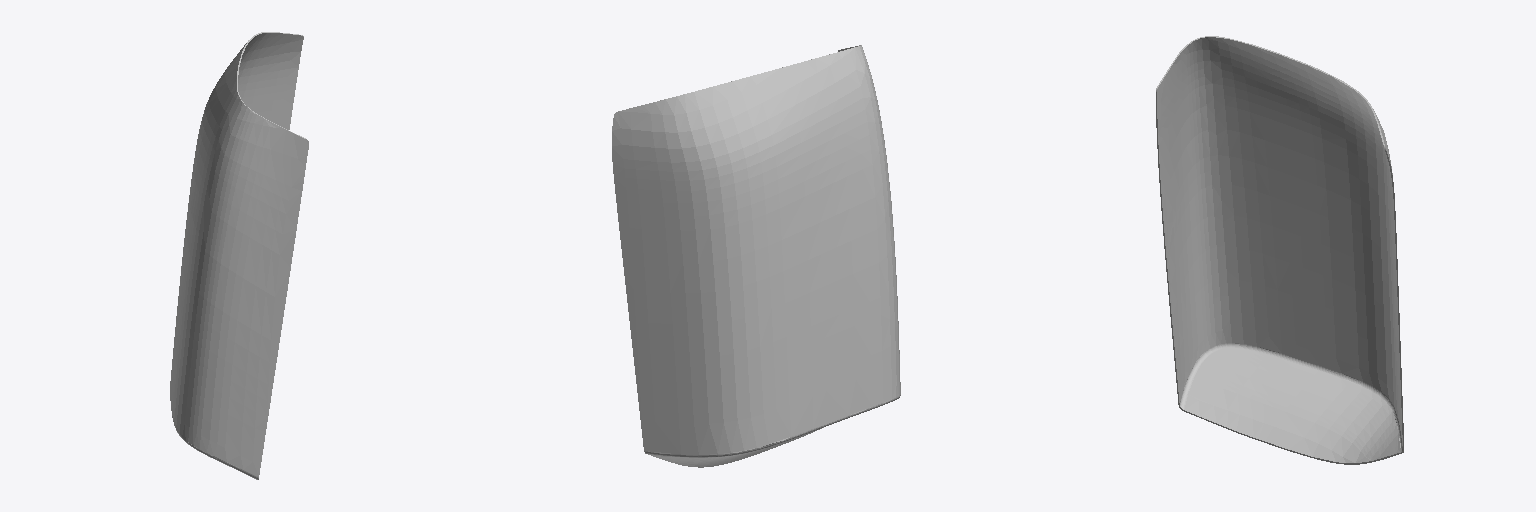
File: Side_cover_r.obj
3 views of the same model, side by side, from view 1: azimuth 30°, elevation 25°; view 2: azimuth 150°, elevation 25°; view 3: azimuth 270°, elevation 25° (orthographic).
Parts seen in each view (by area): view 1: 5 side cover R; view 2: 5 side cover R; view 3: 5 side cover R.
Boxes of the visible parts, x1=… form: 5 side cover R: x1=170, y1=32, x2=308, y2=479; 5 side cover R: x1=612, y1=45, x2=900, y2=467; 5 side cover R: x1=1156, y1=36, x2=1403, y2=464.
Size of the model in its own units: 49.95 by 92.76 by 53.37.